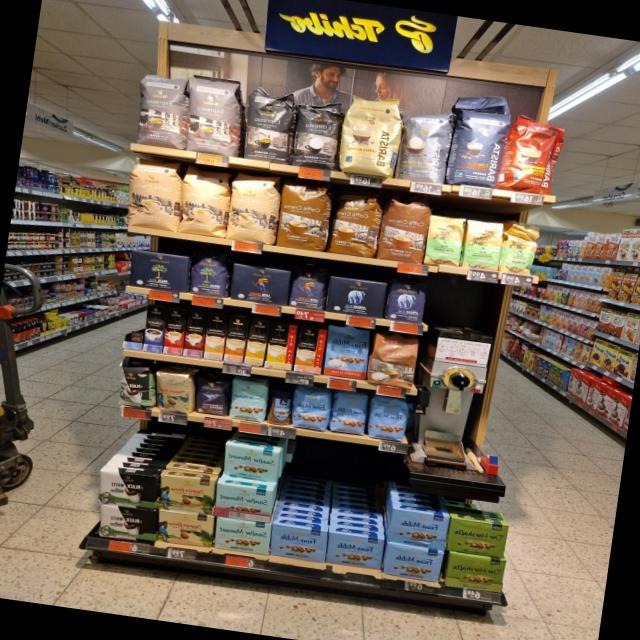AB Bohne: (382, 276, 430, 326)
AB Gemahlen: (323, 274, 390, 322)
Athiopien Bohne: (498, 232, 540, 280)
Athiopien Gemahlen: (460, 216, 506, 275), (421, 213, 467, 269)
BM Bohne: (188, 251, 235, 300)
BM Gemahlen: (126, 248, 192, 296)
BW Bohne: (116, 365, 156, 411)
BW Gemahlen: (96, 468, 162, 512), (96, 502, 160, 546)
Barista CB: (335, 91, 408, 180)
Barista CC: (392, 106, 456, 188)
Barista Espresso: (444, 90, 516, 192)
Barista Kolumbien: (493, 112, 569, 200)
C Fino Bohne: (192, 371, 233, 418)
CC Mild: (123, 154, 188, 234), (225, 170, 288, 247), (176, 164, 236, 242)
CC Vollmundig: (364, 330, 422, 390)
CC Vollmundig 36 Pads: (274, 181, 336, 256), (373, 195, 433, 268), (327, 190, 385, 261)
Colombia BB Bohne: (155, 369, 196, 414)
Colombia BB Gemahlen: (157, 472, 219, 516), (153, 508, 216, 548)
Empty Shelf: (122, 302, 148, 351)
Espresso Aromatisch: (182, 74, 250, 158), (130, 70, 193, 152)
Espresso S Art: (240, 84, 302, 166)
FM 36 Pads: (321, 323, 372, 382)
FM Bohne: (366, 394, 412, 444), (289, 383, 334, 432), (328, 390, 372, 438)
FM Gemahlen: (386, 507, 452, 551), (380, 543, 445, 583), (267, 523, 330, 564), (324, 530, 386, 571)
FM Instant: (265, 391, 295, 428)
Herzhatfe Mundig: (444, 518, 510, 560), (443, 550, 507, 592)
LG Bohne: (285, 261, 332, 312)
LG Gemahlen: (228, 262, 293, 308)
SM Bohne: (226, 375, 272, 424)
SM Gemahlen: (212, 482, 276, 524), (212, 516, 273, 557), (222, 444, 284, 484)
Simo CCMild: (264, 322, 298, 372)
Simo CCMild bigpack: (242, 318, 270, 368)
Simo CCVollmundig: (292, 326, 328, 378)
Simo CCVollmundig bigpack: (222, 316, 250, 364)
Simo Decaff: (202, 313, 228, 362)
Simo Es Elegant: (162, 308, 188, 357)
Simo Es Kraft: (182, 310, 208, 359)
Simo Kaffee Kraft: (142, 304, 168, 353)
